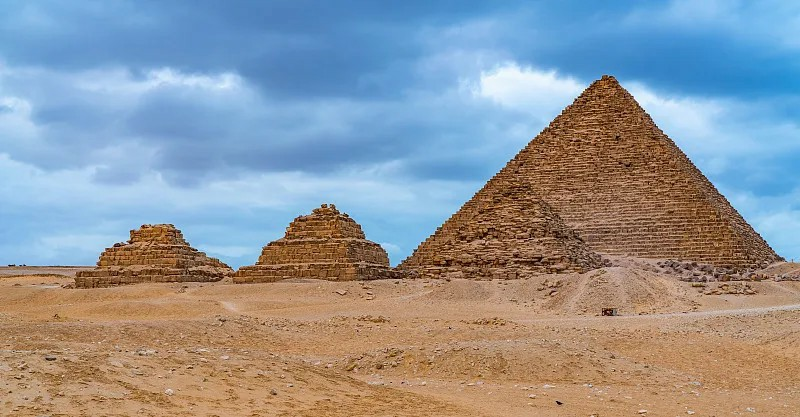Pyramid: (397, 75, 787, 280), (406, 179, 605, 277), (235, 201, 394, 281), (76, 223, 233, 286)
